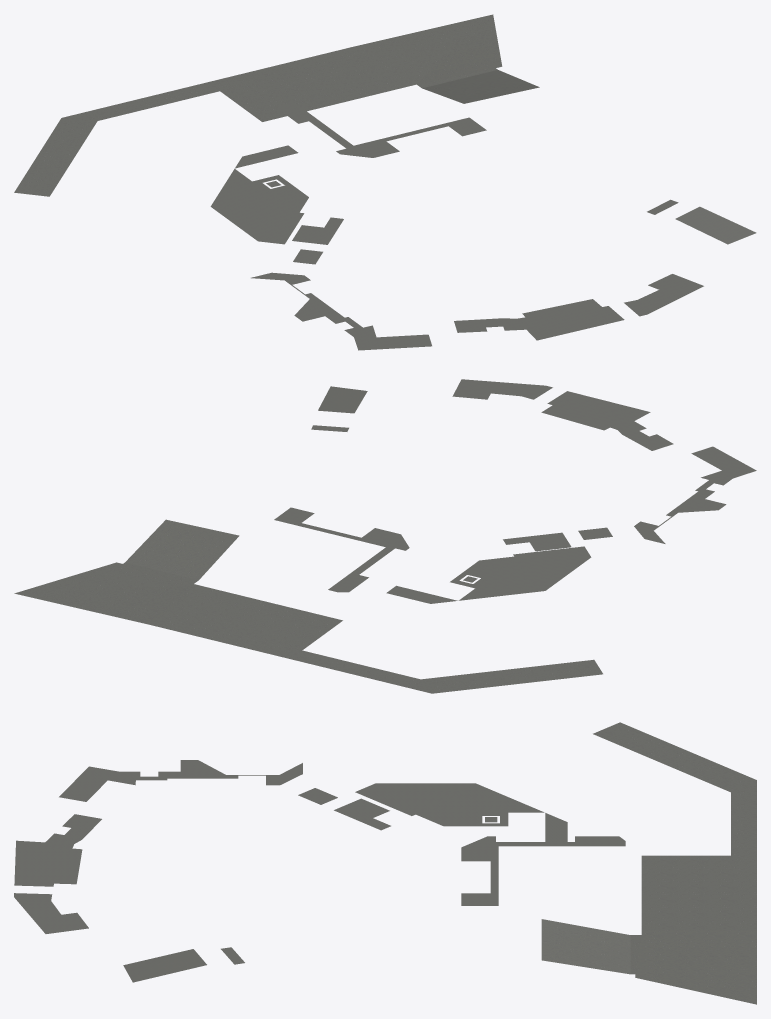
The model's file is kd_stage_135ebf_0_22.glb.
3 renders of one model, top to bottom at view 1: azimuth 30°, elevation 25°; view 2: azimuth 150°, elevation 25°; view 3: azimuth 270°, elevation 25°, orthographic. The views are drawn at different scales.
Parts seen in each view (by area): view 1: kd_stage_135ebf_0_22; view 2: kd_stage_135ebf_0_22; view 3: kd_stage_135ebf_0_22.
Part boxes in pixels (bbox=[...]): kd_stage_135ebf_0_22: bbox=[14, 14, 756, 350]; kd_stage_135ebf_0_22: bbox=[14, 379, 756, 693]; kd_stage_135ebf_0_22: bbox=[14, 722, 756, 1004].
Bounding box in the file's own units: 23.87 × 0.9286 × 26.73.
1 material, 1 textured.
